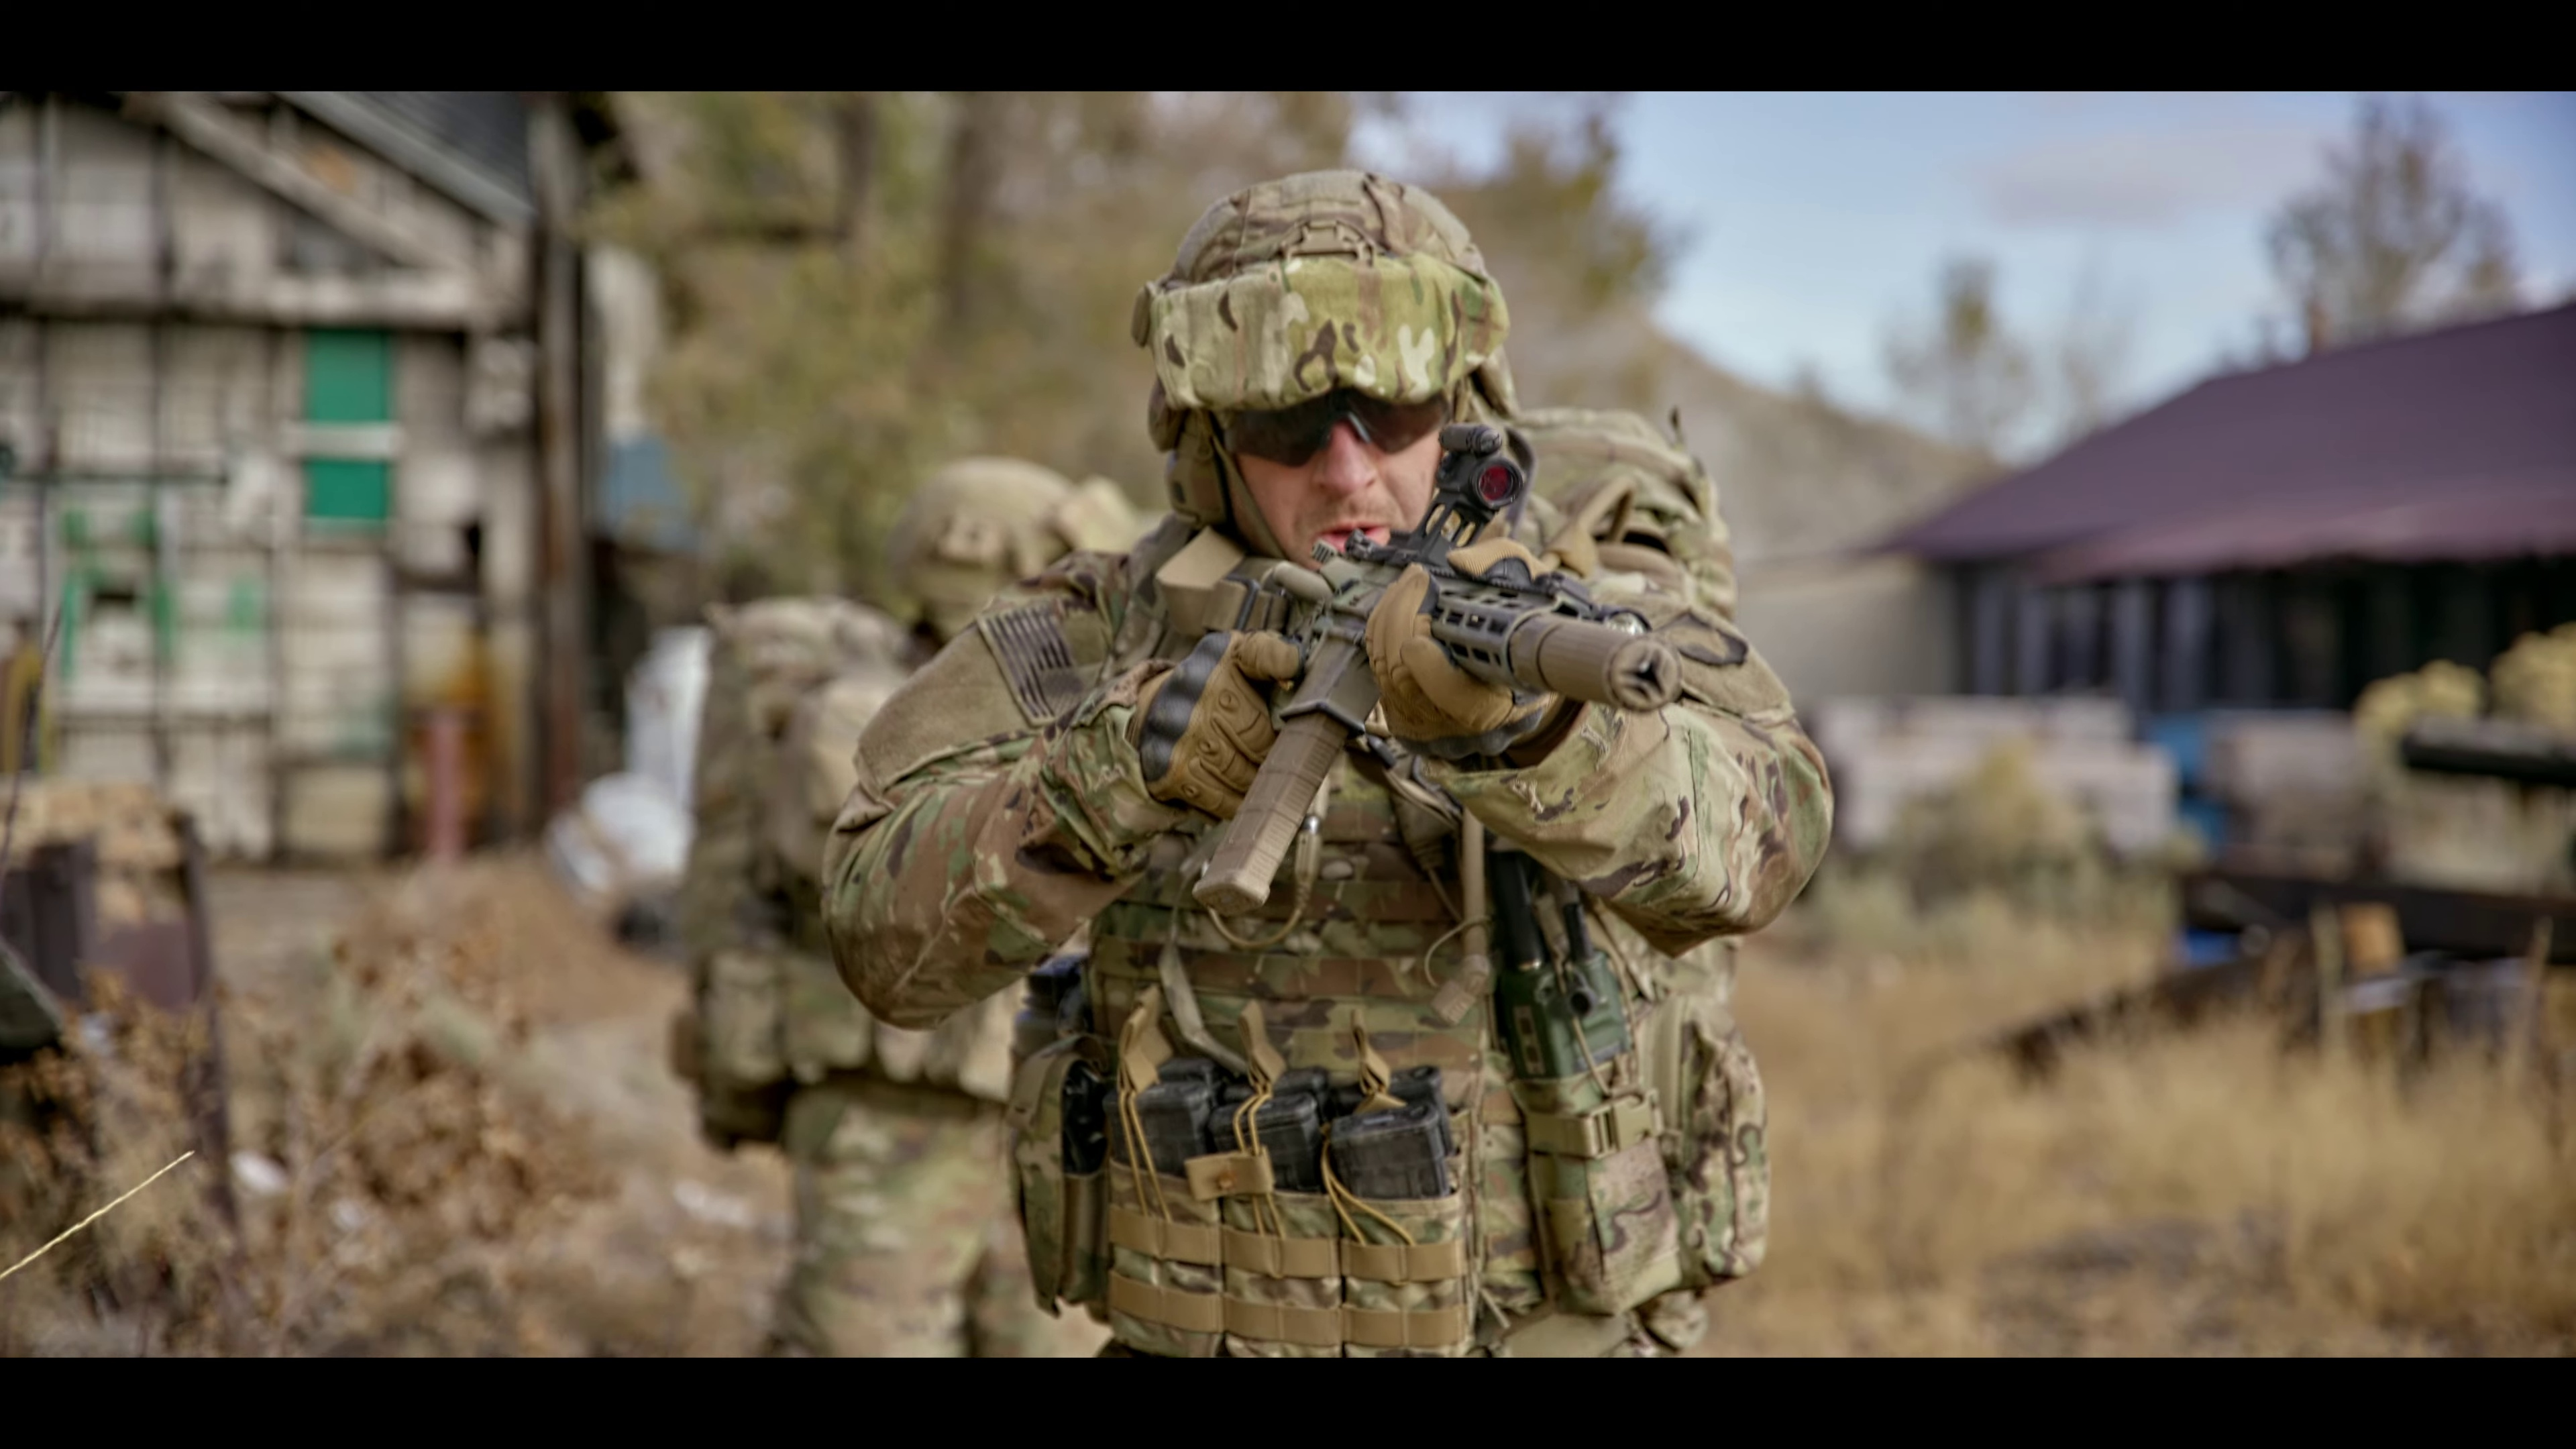gun: (1109, 405, 1695, 925)
p_w_gun: (821, 156, 1844, 1366)
